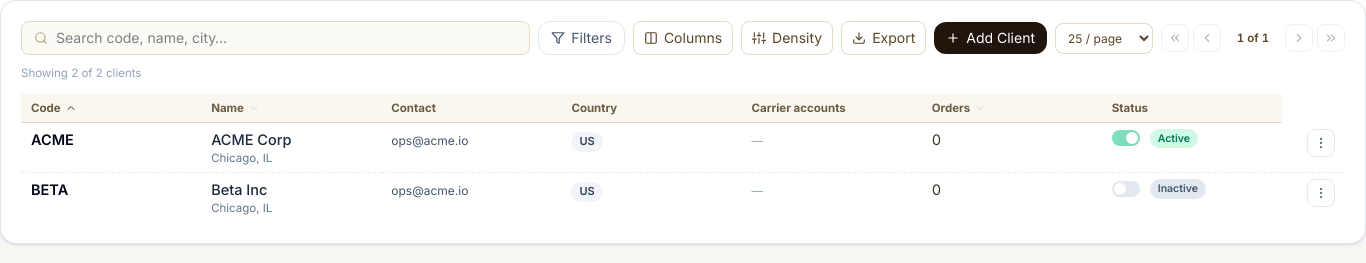
Test: ClientsPage · row actions · roles › USER role: kebab menu HIDES Delete; keeps Edit + Importer/Broker
Click the button named "Row actions" in the row of "ACME Corp". click: click(1321, 143)
box: x1=1307 y1=129 x2=1335 y2=157
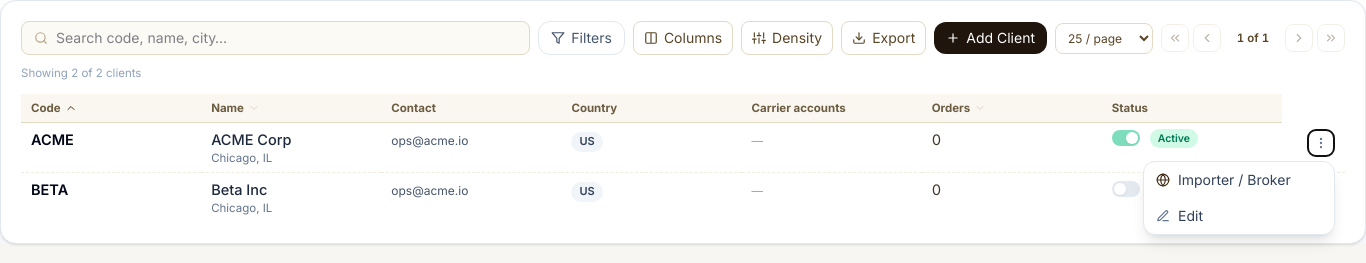
Now the menu item "Edit" is shown, box x1=1144 y1=198 x2=1334 y2=234
Now the menu item "Importer / Broker" is shown, box x1=1144 y1=162 x2=1334 y2=198
